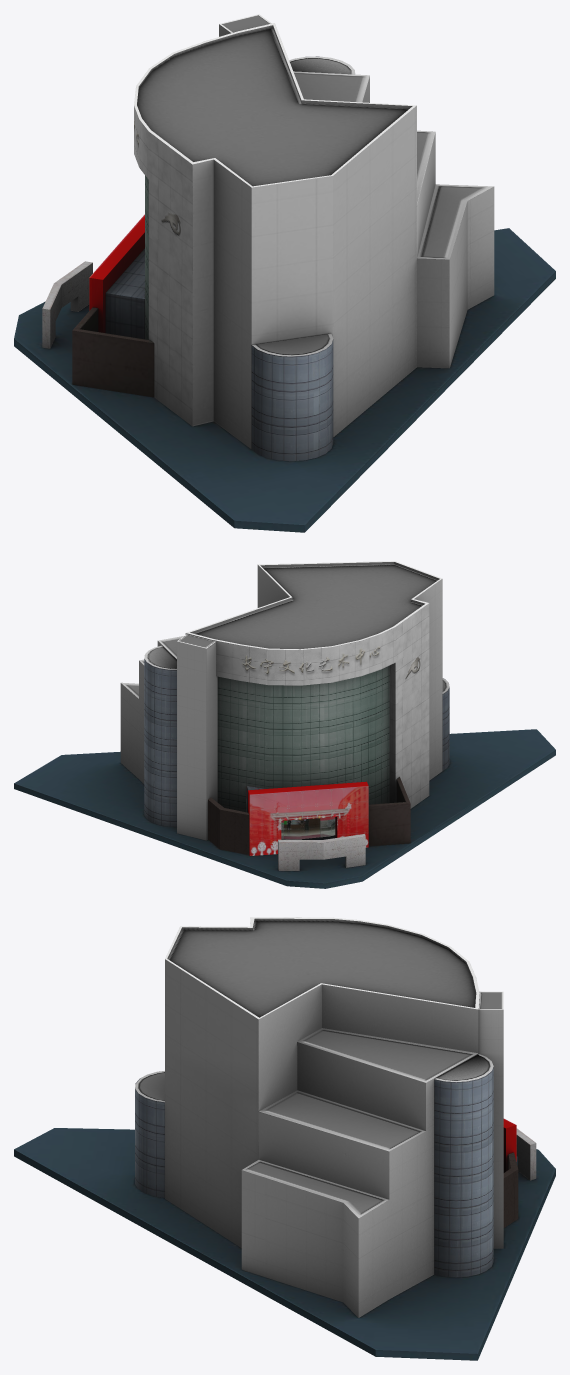
File: cnwgys.gltf
3 views of the same model, one above another, from view 1: azimuth 30°, elevation 25°; view 2: azimuth 150°, elevation 25°; view 3: azimuth 270°, elevation 25° (orthographic). The views are drawn at different scales.
Visible parts, largest first — view 1: pCylinder1, pCube6, pCylinder4, pCube4, pCube2, pCube3, pCube7, pCylinder3; view 2: pCylinder1, pCube6, pCube1, pCube3, pCylinder3, pCube7, pCube4, pCube5, pCylinder4; view 3: pCylinder1, pCube6, pCylinder3, pCube1, pCylinder4, pCube5, pCube7, pCube3.
Part boxes in pixels (x1,y1,x2,y2): pCylinder1: (134,23,494,449); pCube6: (14,228,555,532); pCylinder4: (251,333,333,461); pCube4: (72,307,154,397); pCube2: (105,248,144,339); pCube3: (89,214,144,332); pCube7: (42,261,92,348); pCylinder3: (289,56,355,74); pCylinder1: (120,561,442,839); pCube6: (14,729,555,888); pCube1: (177,634,217,840); pCube3: (248,781,368,855); pCylinder3: (144,645,176,826); pCube7: (278,834,365,870); pCube4: (368,777,410,846); pCube5: (208,797,249,854); pCylinder4: (442,678,449,770); pCylinder1: (165,917,479,1317); pCube6: (14,1128,555,1360); pCylinder3: (434,1054,493,1277); pCube1: (478,991,503,1248); pCylinder4: (135,1071,164,1197); pCube5: (503,1152,518,1227); pCube7: (516,1128,536,1180); pCube3: (503,1118,516,1172).
Bounding box in the file's own units: 13.37 × 6.81 × 13.55.
Materials: 1 (1 with a texture image).
